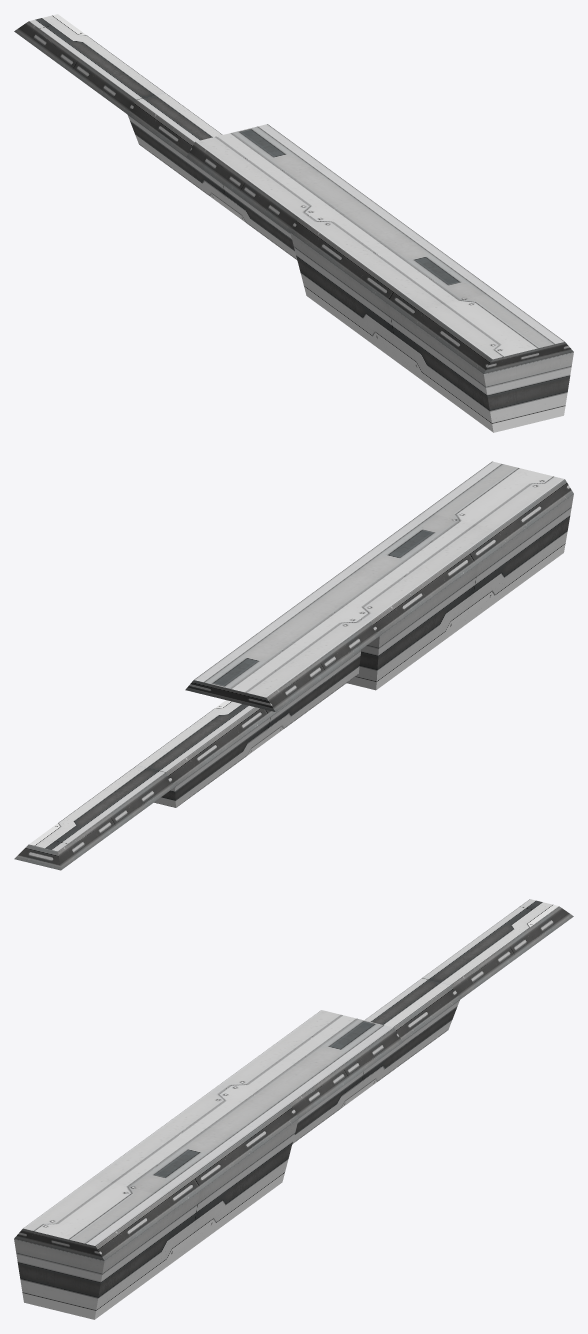
Rendered from Ext_Antenna_01.FBX.
The picture shows the model from 3 angles, top to bottom: view 1: azimuth 30°, elevation 25°; view 2: azimuth 150°, elevation 25°; view 3: azimuth 330°, elevation 25°; orthographic projection.
Visible parts, largest first — view 1: Ext_Antenna_01; view 2: Ext_Antenna_01; view 3: Ext_Antenna_01.
Boxes of the visible parts, x1=… form: Ext_Antenna_01: x1=14, y1=14, x2=573, y2=432; Ext_Antenna_01: x1=14, y1=461, x2=573, y2=870; Ext_Antenna_01: x1=14, y1=899, x2=573, y2=1319.
Size of the model in its own units: 227 by 177 by 2132.
